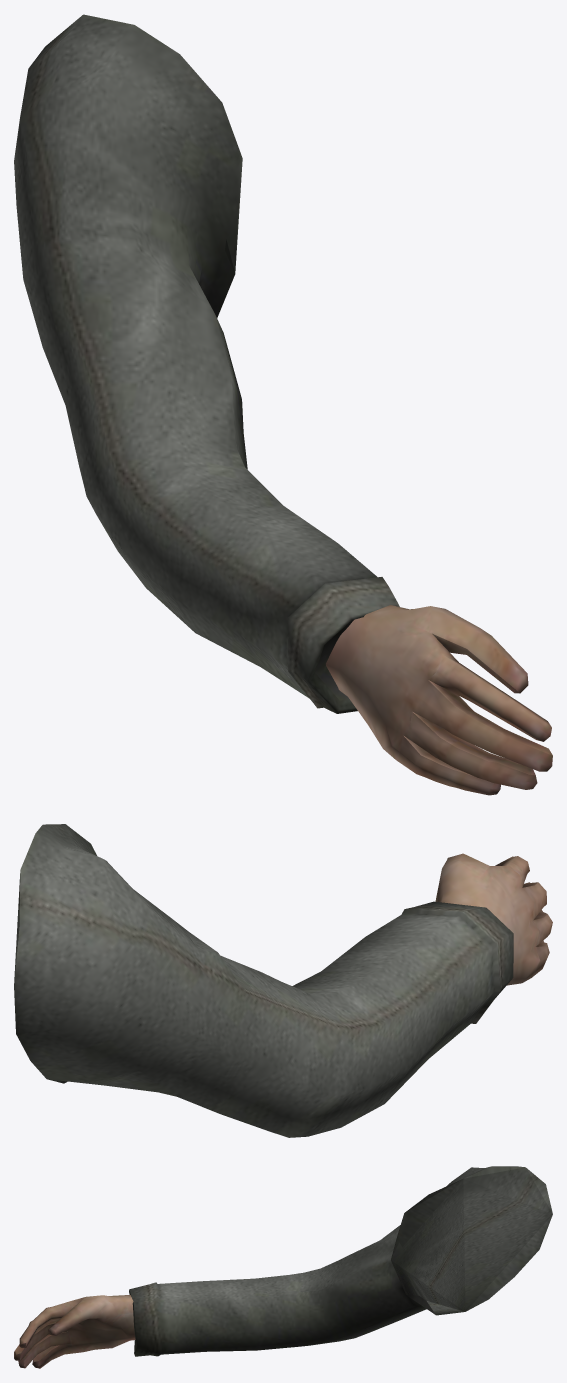
3 views of the same model, one above another, from view 1: azimuth 30°, elevation 25°; view 2: azimuth 150°, elevation 25°; view 3: azimuth 270°, elevation 25° (orthographic). The views are drawn at different scales.
Visible parts, largest first — view 1: 胳膊; view 2: 胳膊; view 3: 胳膊.
Part boxes in pixels (x1,y1,x2,y2): 胳膊: (14,14,552,795); 胳膊: (14,824,552,1137); 胳膊: (14,1166,552,1368).
Size of the model in its own units: 161 by 314 by 689.
